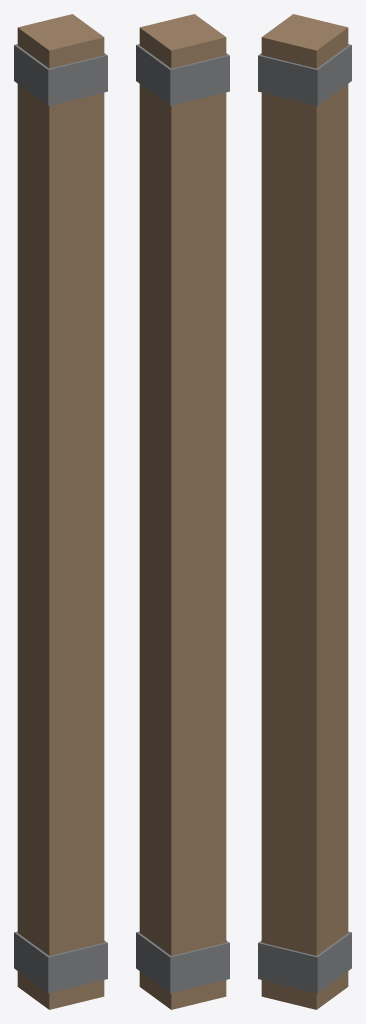
The model's file is wooden_beam.glb.
3 renders of one model, left to right at view 1: azimuth 30°, elevation 25°; view 2: azimuth 210°, elevation 25°; view 3: azimuth 330°, elevation 25°, orthographic.
Parts seen in each view (by area): view 1: WoodBeam_Mesh, Cube, Cube.001; view 2: WoodBeam_Mesh, Cube, Cube.001; view 3: WoodBeam_Mesh, Cube, Cube.001.
Boxes of the visible parts, x1,y1,x2,y2 form: WoodBeam_Mesh: (17,14,104,1009); Cube: (14,931,107,993); Cube.001: (14,44,107,105); WoodBeam_Mesh: (139,14,226,1009); Cube: (136,931,229,993); Cube.001: (136,44,229,105); WoodBeam_Mesh: (261,14,348,1009); Cube: (258,931,351,993); Cube.001: (258,44,351,105).
Bounding box in the file's own units: 0.26 × 4 × 0.26.
